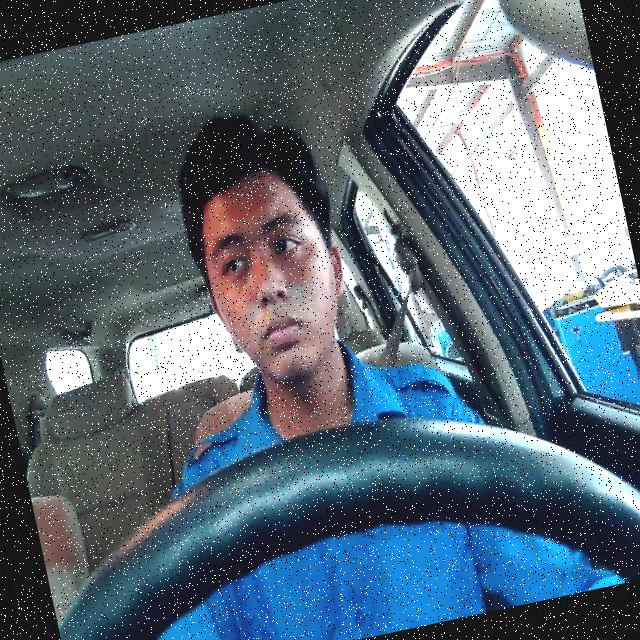focused: (185, 160, 362, 393)
